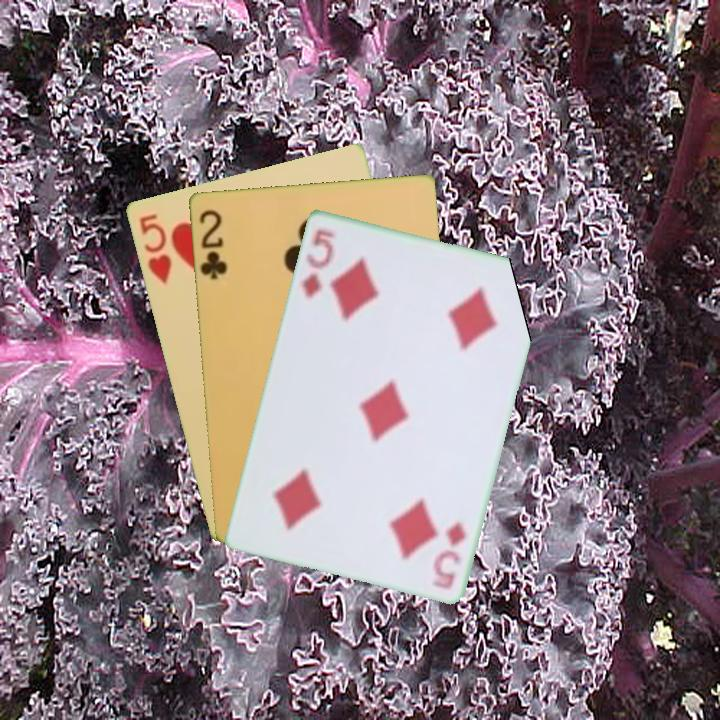2c: (195, 206, 229, 282)
5d: (297, 225, 339, 301), (428, 517, 468, 592)
5h: (135, 210, 174, 287)
